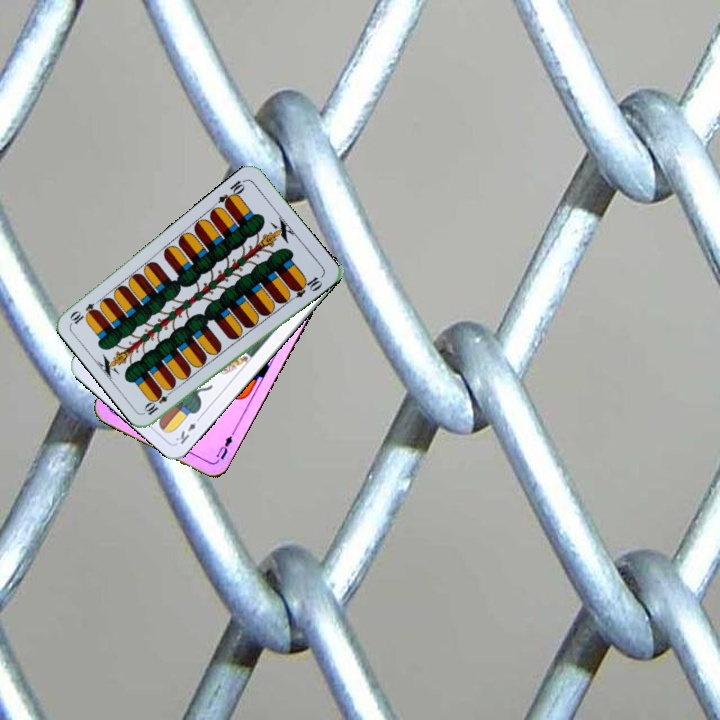E10: (214, 175, 248, 210), (141, 385, 176, 418)
EK: (171, 412, 204, 447)
EU: (212, 429, 236, 462)
